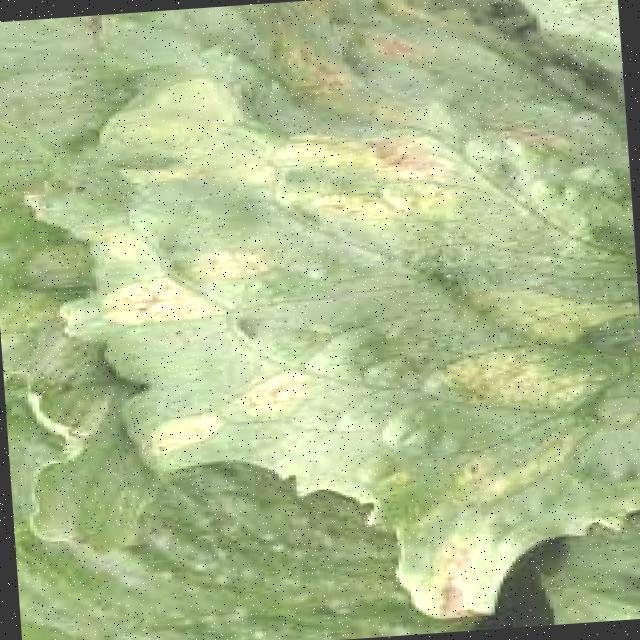Bad: (28, 77, 639, 618)
